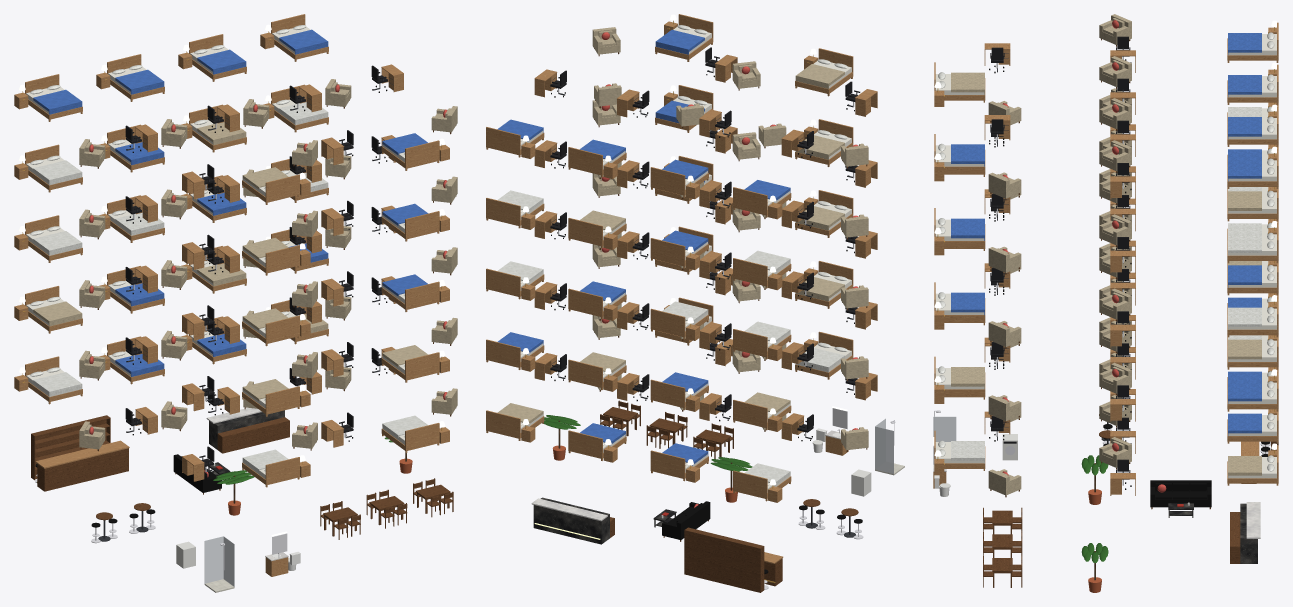
The model's file is i_hotel_artdeco.gltf.
The picture shows the model from 3 angles, left to right: view 1: azimuth 30°, elevation 25°; view 2: azimuth 150°, elevation 25°; view 3: azimuth 270°, elevation 25°; orthographic projection. The views are drawn at different scales.
Parts seen in each view (by area): view 1: I_hotel_artdeco; view 2: I_hotel_artdeco; view 3: I_hotel_artdeco.
Part boxes in pixels (bbox=[...]): I_hotel_artdeco: bbox=[14, 14, 457, 592]; I_hotel_artdeco: bbox=[486, 14, 904, 592]; I_hotel_artdeco: bbox=[933, 14, 1278, 592].
Bounding box in the file's own units: 16 × 18.05 × 13.49.
Materials: 27 (10 with a texture image).
